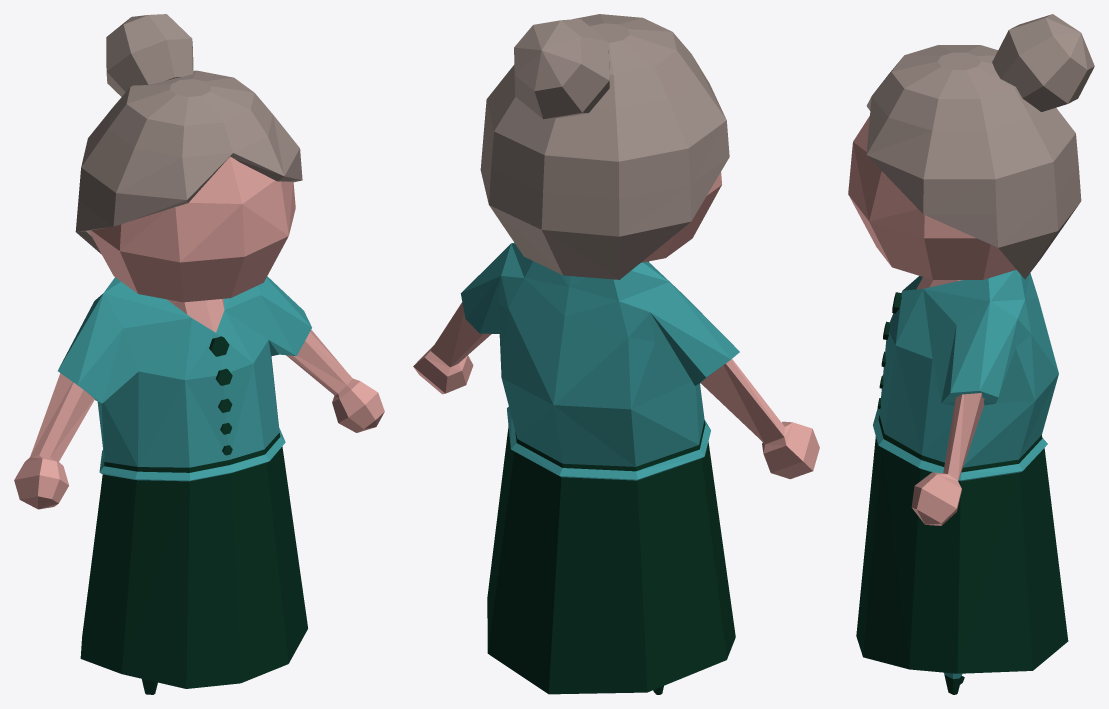
File: Grandma.FBX
3 views of the same model, side by side, from view 1: azimuth 30°, elevation 25°; view 2: azimuth 150°, elevation 25°; view 3: azimuth 270°, elevation 25° (orthographic). The views are drawn at different scales.
Visible parts, largest first — view 1: Object008; view 2: Object008; view 3: Object008.
Boxes of the visible parts, left/top/right/bottom form: Object008: left=14, top=14, right=384, bottom=694; Object008: left=413, top=14, right=819, bottom=694; Object008: left=848, top=14, right=1094, bottom=694.
Bounding box in the file's own units: 57.95 × 97.94 × 33.51.
